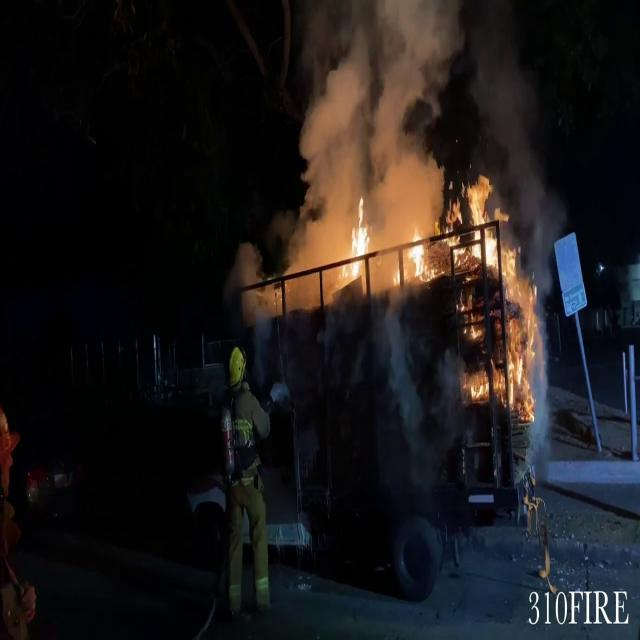Fire: (452, 170, 542, 420), (330, 198, 438, 292)
Smoke: (274, 0, 474, 268)
